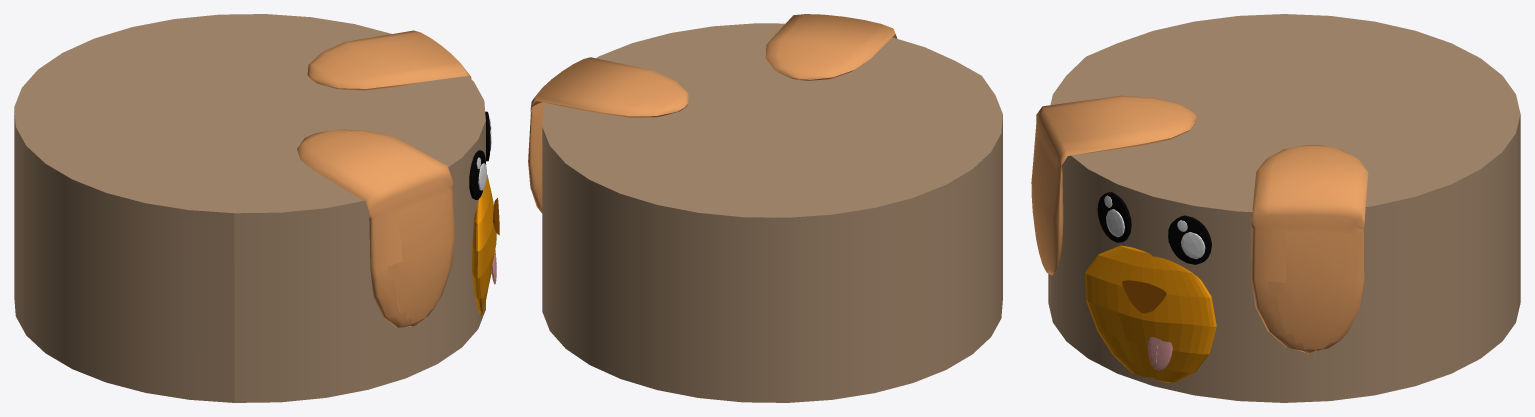
File: dogcake1.glb
The picture shows the model from 3 angles, left to right: view 1: azimuth 30°, elevation 25°; view 2: azimuth 150°, elevation 25°; view 3: azimuth 270°, elevation 25°; orthographic projection. The views are drawn at different scales.
Visible parts, largest first — view 1: cake, ear1, ear2, mustache, eye1; view 2: cake, ear2, ear1; view 3: cake, ear2, mustache, ear1, eye2, eye1, Nose new, tougue.
Boxes of the visible parts, left/top/right/bottom form: cake: left=14, top=14, right=485, bottom=402; ear1: left=297, top=129, right=454, bottom=327; ear2: left=307, top=30, right=471, bottom=90; mustache: left=472, top=174, right=496, bottom=315; eye1: left=469, top=150, right=486, bottom=199; cake: left=542, top=23, right=1002, bottom=402; ear2: left=528, top=57, right=688, bottom=213; ear1: left=765, top=14, right=897, bottom=80; cake: left=1048, top=14, right=1520, bottom=402; ear2: left=1251, top=145, right=1368, bottom=353; mustache: left=1085, top=245, right=1216, bottom=382; ear1: left=1031, top=95, right=1196, bottom=275; eye2: left=1168, top=215, right=1211, bottom=264; eye1: left=1097, top=192, right=1131, bottom=242; Nose new: left=1122, top=280, right=1166, bottom=313; tougue: left=1148, top=336, right=1172, bottom=370.
Bounding box in the file's own units: 1.51 × 0.7069 × 1.52.
